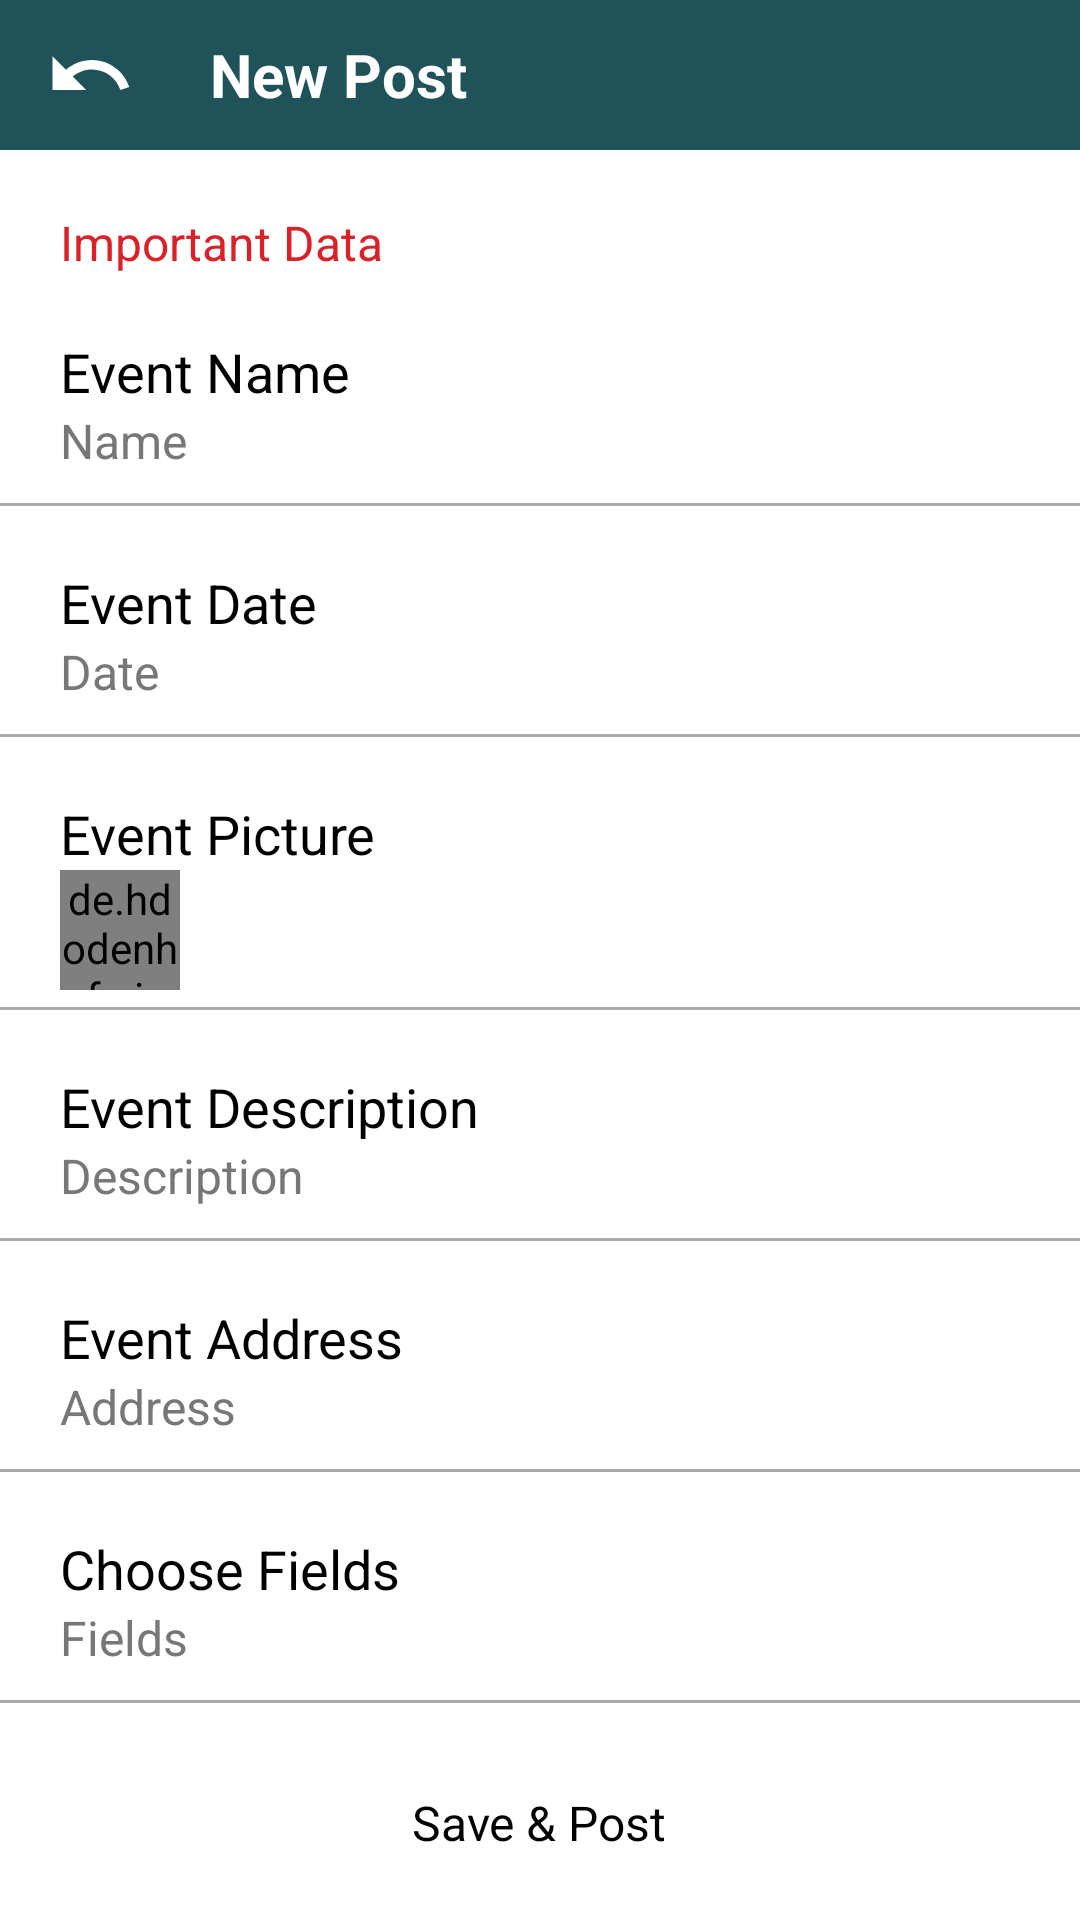

Where to tap for icons on this 1080x1920 app screen, as point (x, y):
back: point (90, 73)
